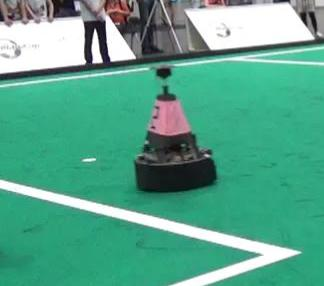robot: (130, 63, 218, 194)
